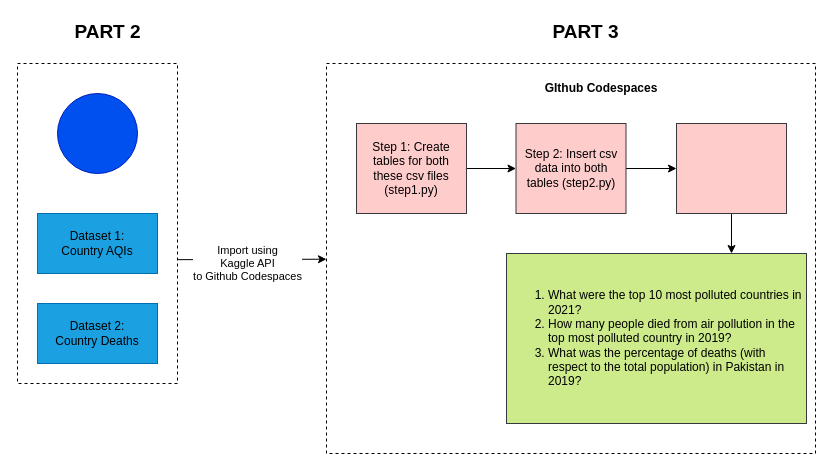
The diagram is 833 pixels wide and 471 high, and some of its shapes have lost their labels. The centre of each missing label's shape, as x and y in pixels:
"Kaggle" belongs at (x=97, y=133).
"Step 3: Query datasets to answer research questions (step1.py)" belongs at (x=731, y=168).
